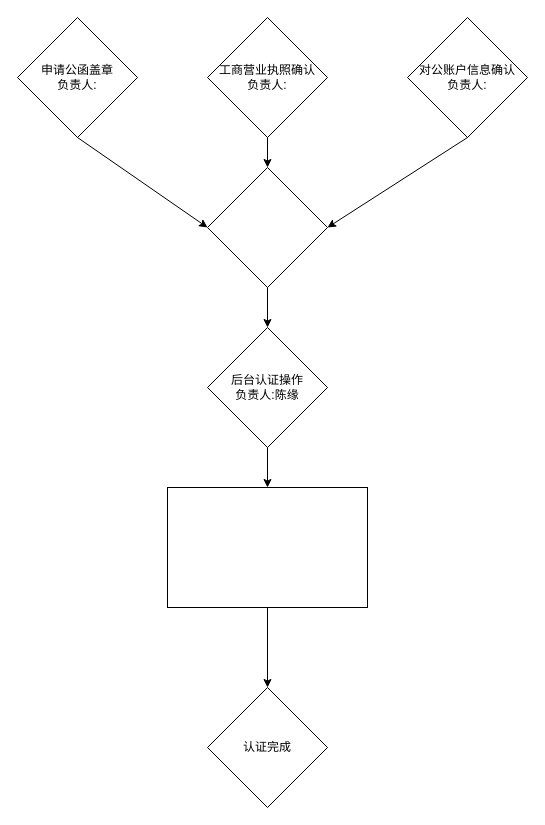
Image size: 545x825. Some labels were removed from this diagram. The shapes that lost their labels are listed below. From the top down, each one's centre as x and y in pixels, then its label:
At point (267, 227): "对公账户收款确认 负责人:".
At point (267, 547): "认证过程与微信客服沟通并处理提交的资料出现的问题 负责人: 陈缘".
